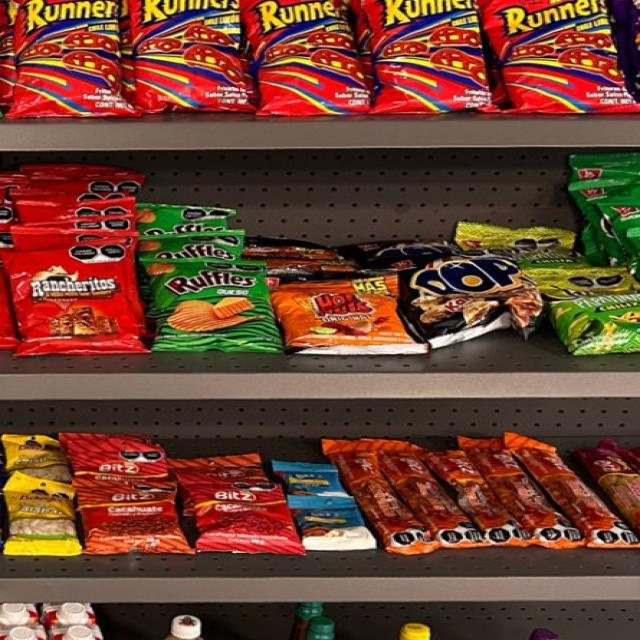bitzAlmendras: (295, 510, 369, 549), (288, 463, 346, 507)
bitzEnchilado90: (86, 488, 182, 554), (190, 485, 286, 549)
bitzEnchilado95: (371, 436, 597, 551)
bitzHabanero: (601, 439, 640, 533)
chipsPapatinas: (548, 271, 640, 350)
hotNutsOriginal: (277, 287, 401, 348)
popKarameladas: (404, 259, 540, 330)
rancheritos: (16, 256, 126, 350)
rufflesQueso: (160, 268, 264, 346), (146, 236, 238, 262)
runners: (4, 0, 132, 116), (136, 0, 252, 120), (497, 0, 619, 109), (256, 0, 364, 119), (372, 0, 484, 107)
semillasCalabaza: (0, 476, 84, 557)
